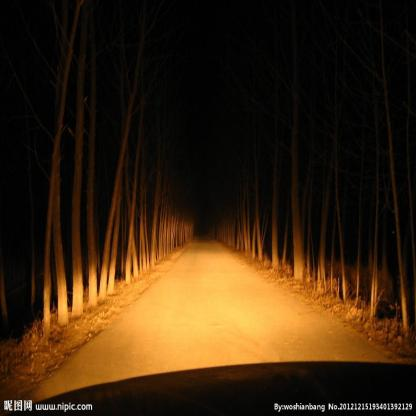other: (48, 234, 393, 362)
